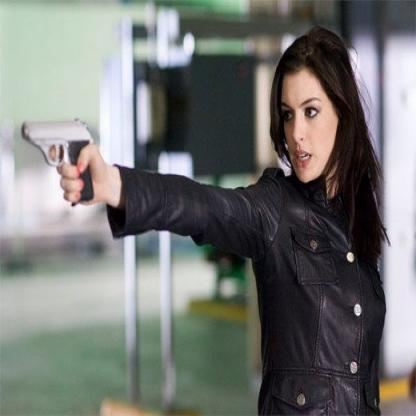gun: (15, 96, 108, 212)
